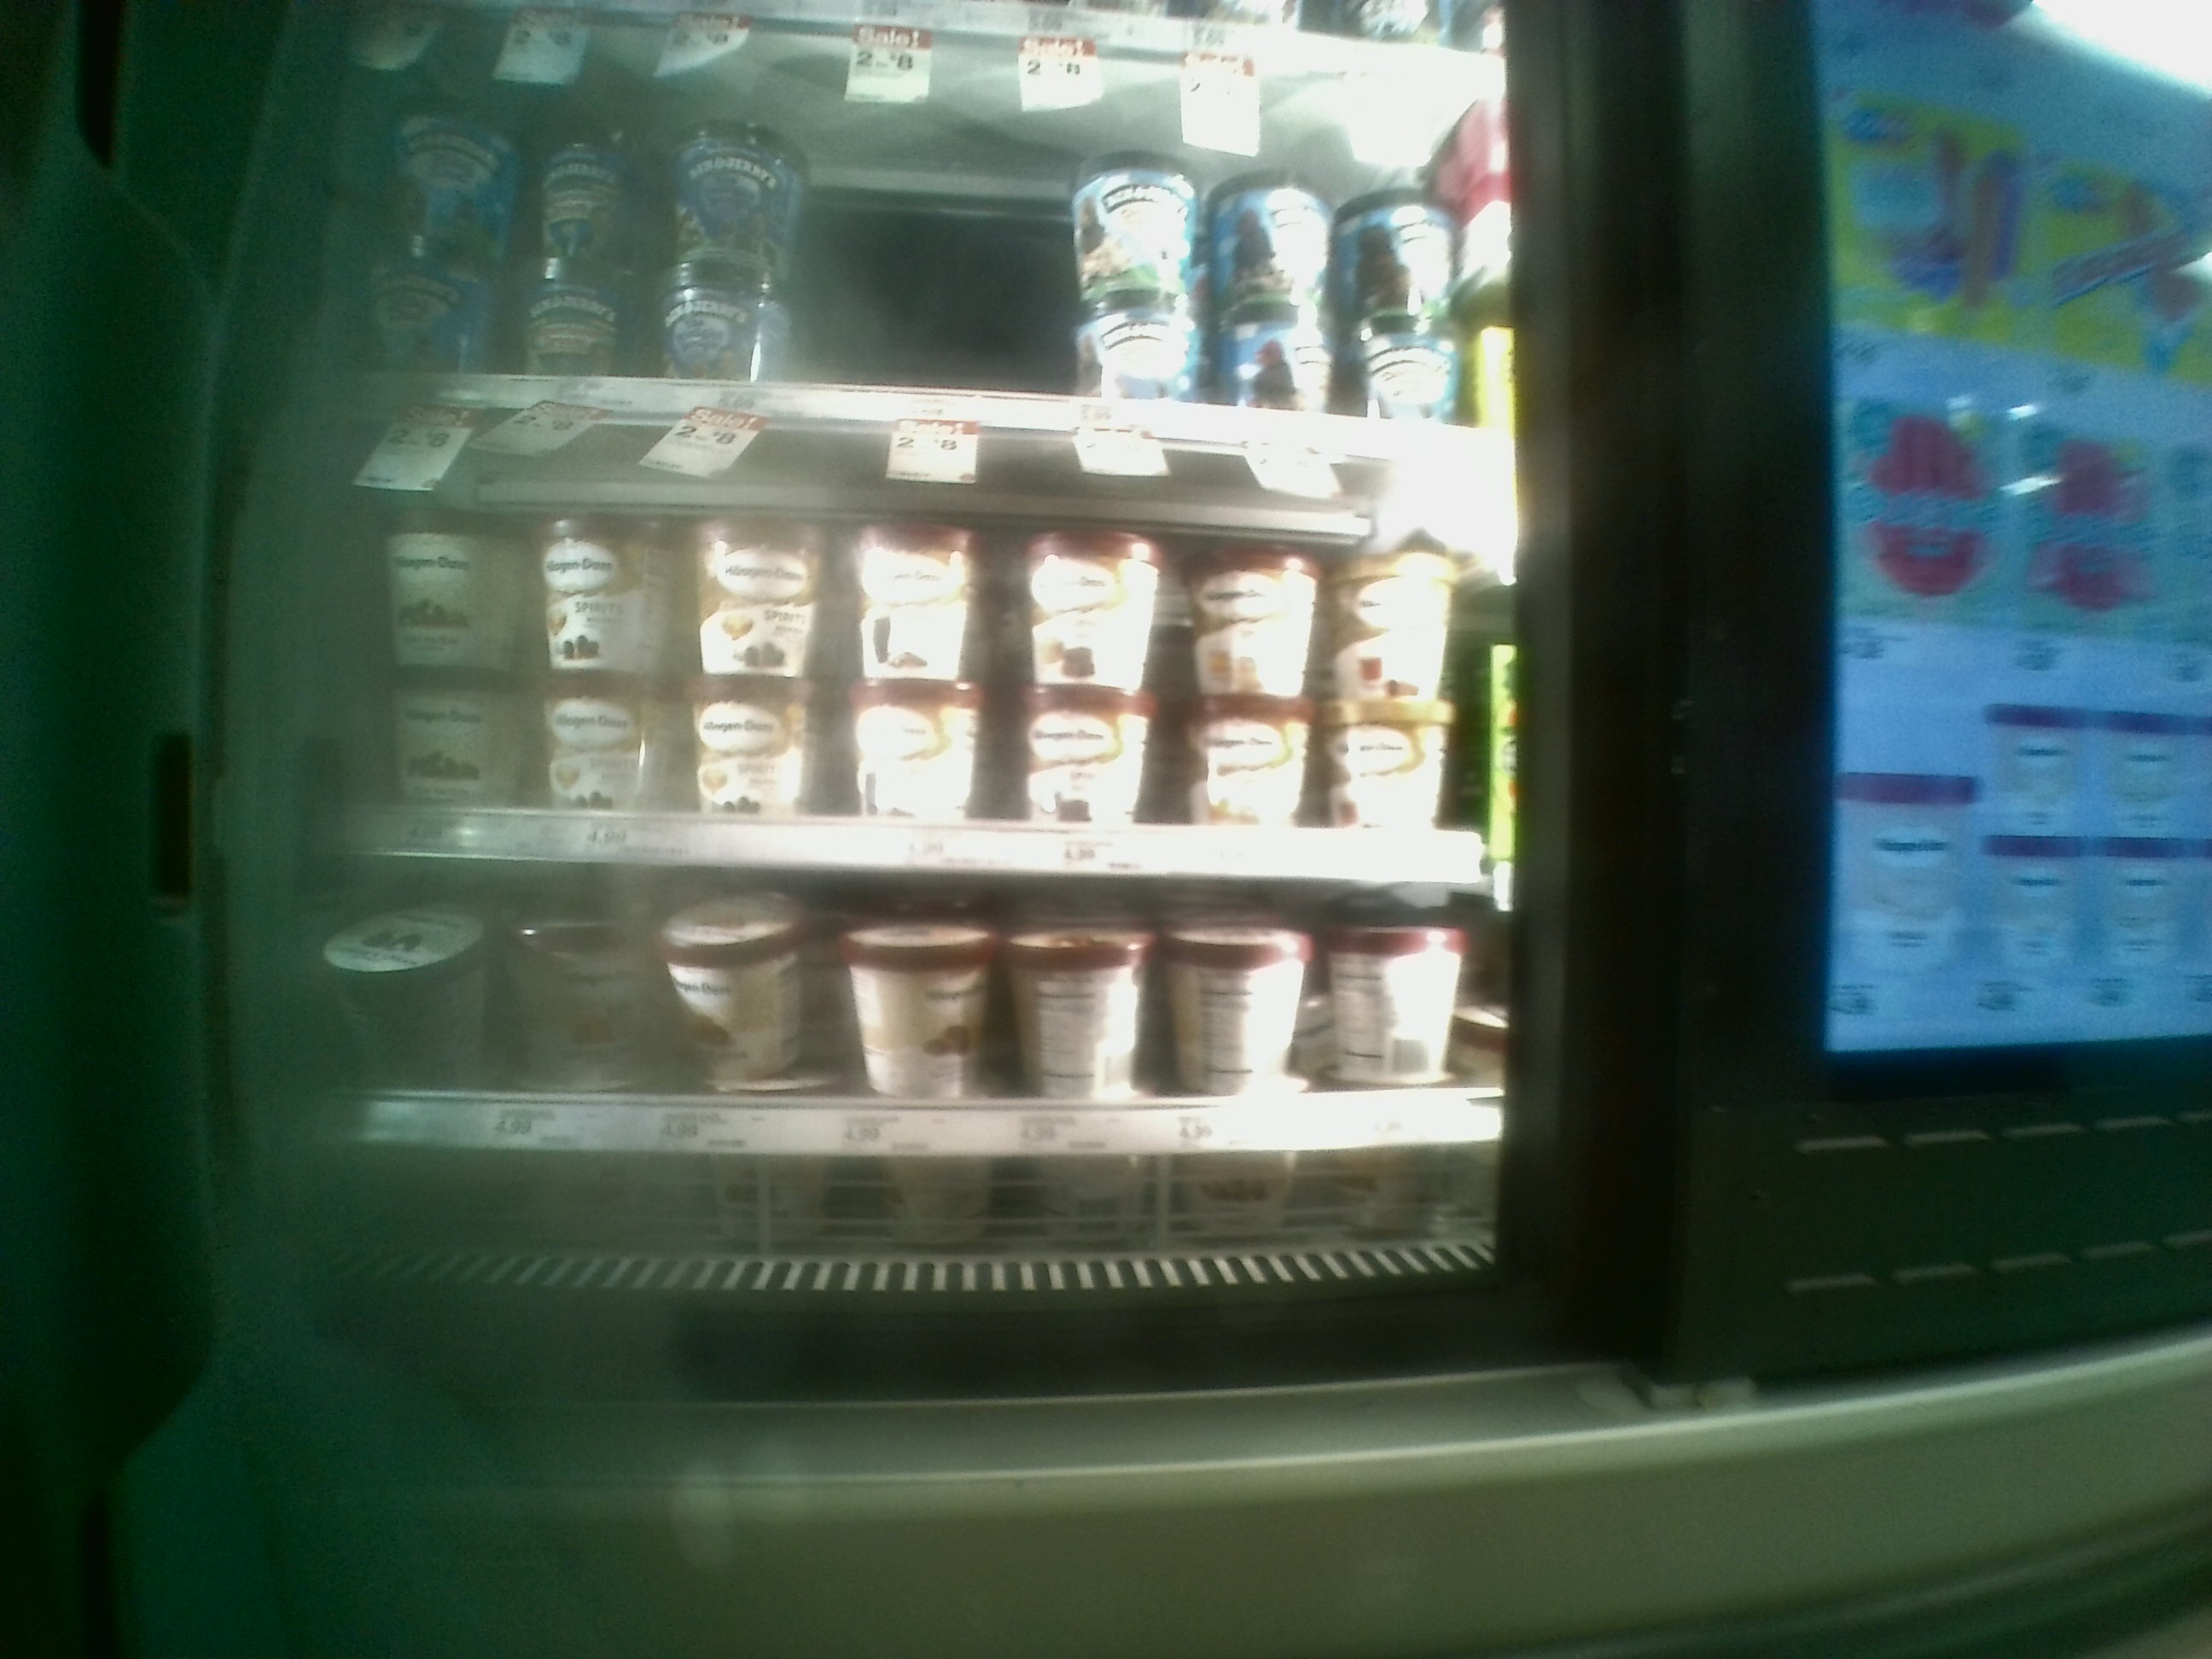shelf: (331, 410, 1526, 887), (331, 868, 1533, 1260)
